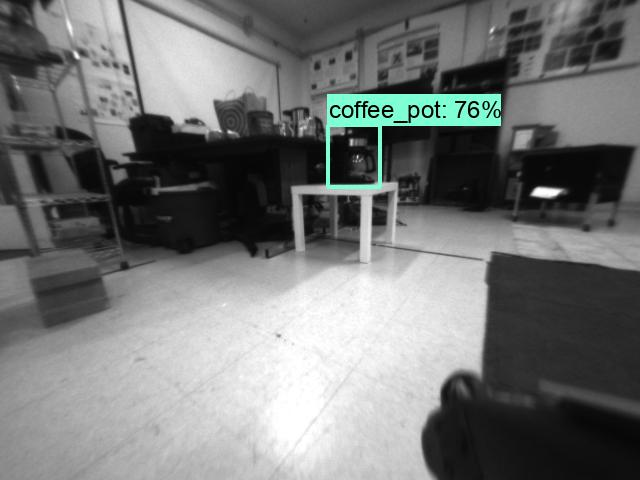coffee_pot: (327, 131, 378, 189)
